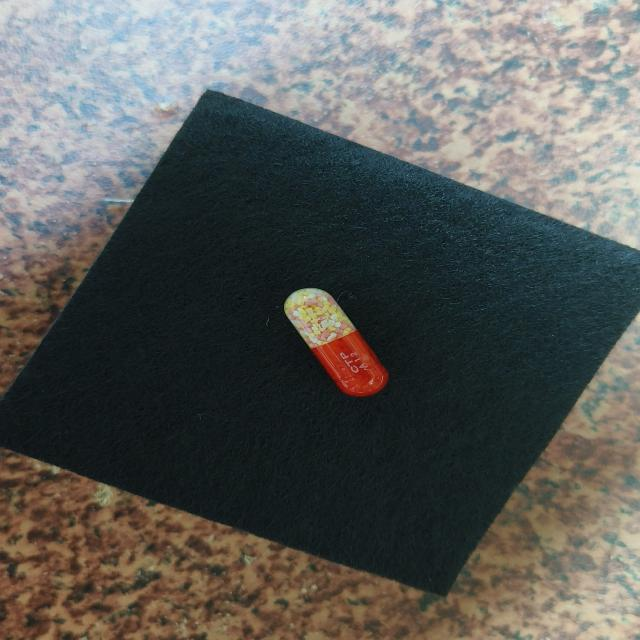Intact Capsule: (284, 288, 389, 397)
